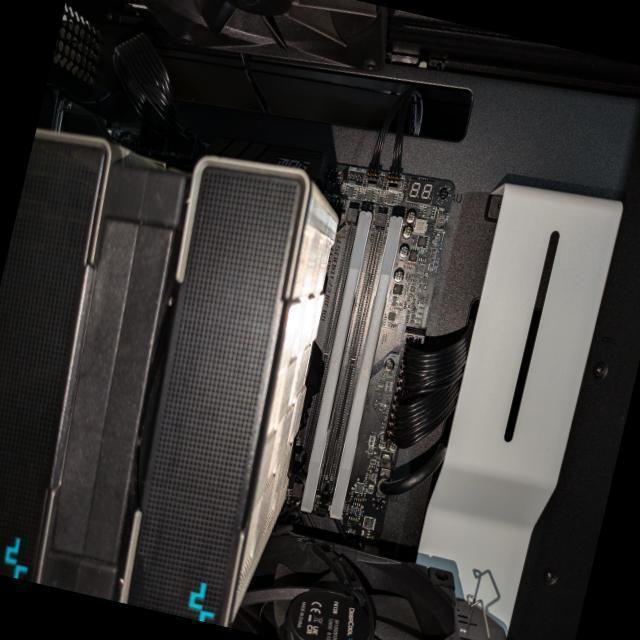CPU_Fan: (0, 107, 359, 633)
Mainboard: (268, 158, 462, 542)
RAM: (291, 209, 381, 513), (322, 215, 409, 520)
